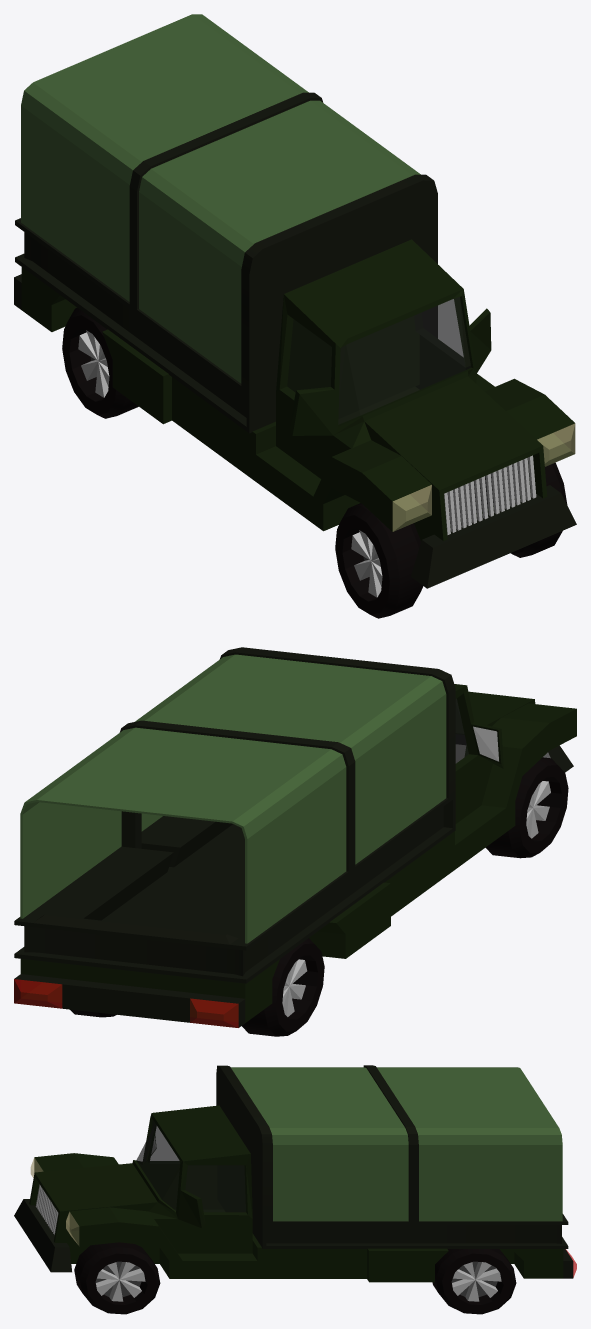
Rendered from CamionPouetPouet.FBX.
The picture shows the model from 3 angles, top to bottom: view 1: azimuth 30°, elevation 25°; view 2: azimuth 150°, elevation 25°; view 3: azimuth 270°, elevation 25°; orthographic projection. The views are drawn at different scales.
Visible parts, largest first — view 1: Cylinder002; view 2: Cylinder002; view 3: Cylinder002.
Boxes of the visible parts, left/top/right/bottom form: Cylinder002: left=14, top=14, right=576, bottom=618; Cylinder002: left=14, top=647, right=576, bottom=1036; Cylinder002: left=14, top=1065, right=576, bottom=1314.
Bounding box in the file's own units: 67.49 × 77.42 × 212.
